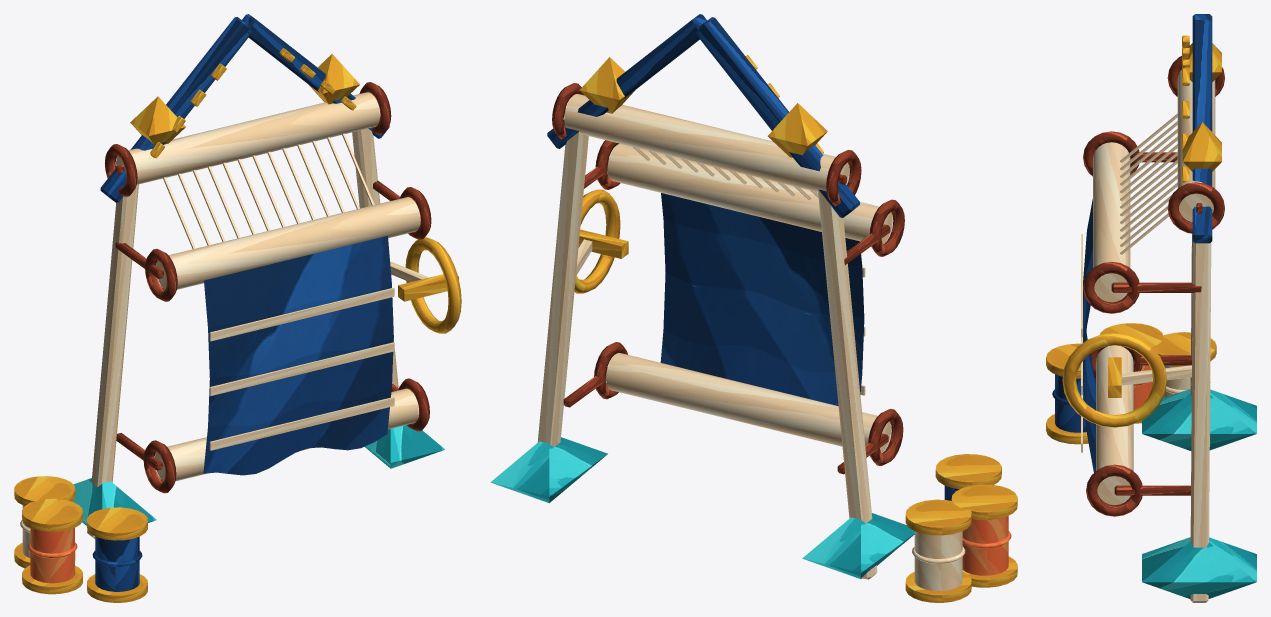
Rendered from 01_原神参考_赛璐璐.glb.
3 renders of one model, left to right at view 1: azimuth 30°, elevation 25°; view 2: azimuth 150°, elevation 25°; view 3: azimuth 270°, elevation 25°, orthographic. The views are drawn at different scales.
Visible parts, largest first — view 1: sundial_loom; view 2: sundial_loom; view 3: sundial_loom.
Boxes of the visible parts, x1,y1,x2,y2 form: sundial_loom: [14, 14, 461, 602]; sundial_loom: [490, 14, 1017, 602]; sundial_loom: [1046, 14, 1256, 602].
Bounding box in the file's own units: 1.71 × 1.86 × 0.697.
2 materials, 2 textured.
